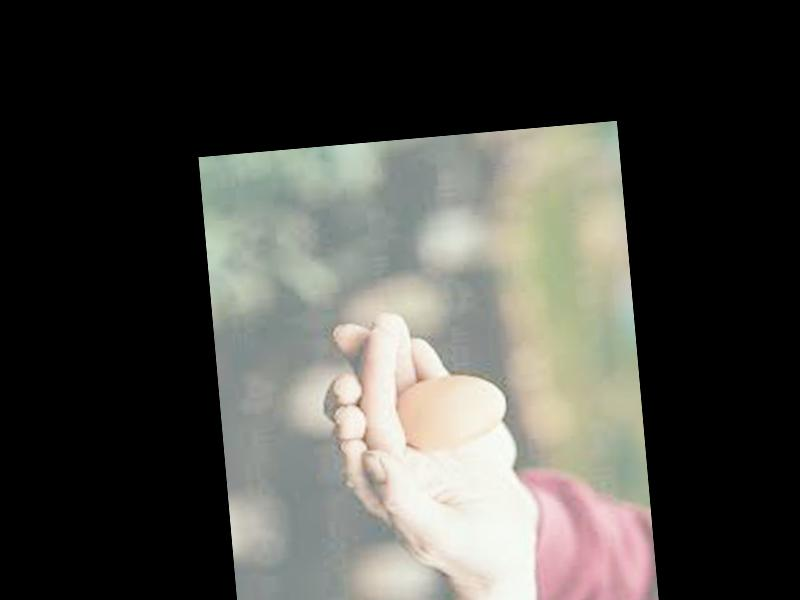Eggs: (397, 372, 508, 452)
